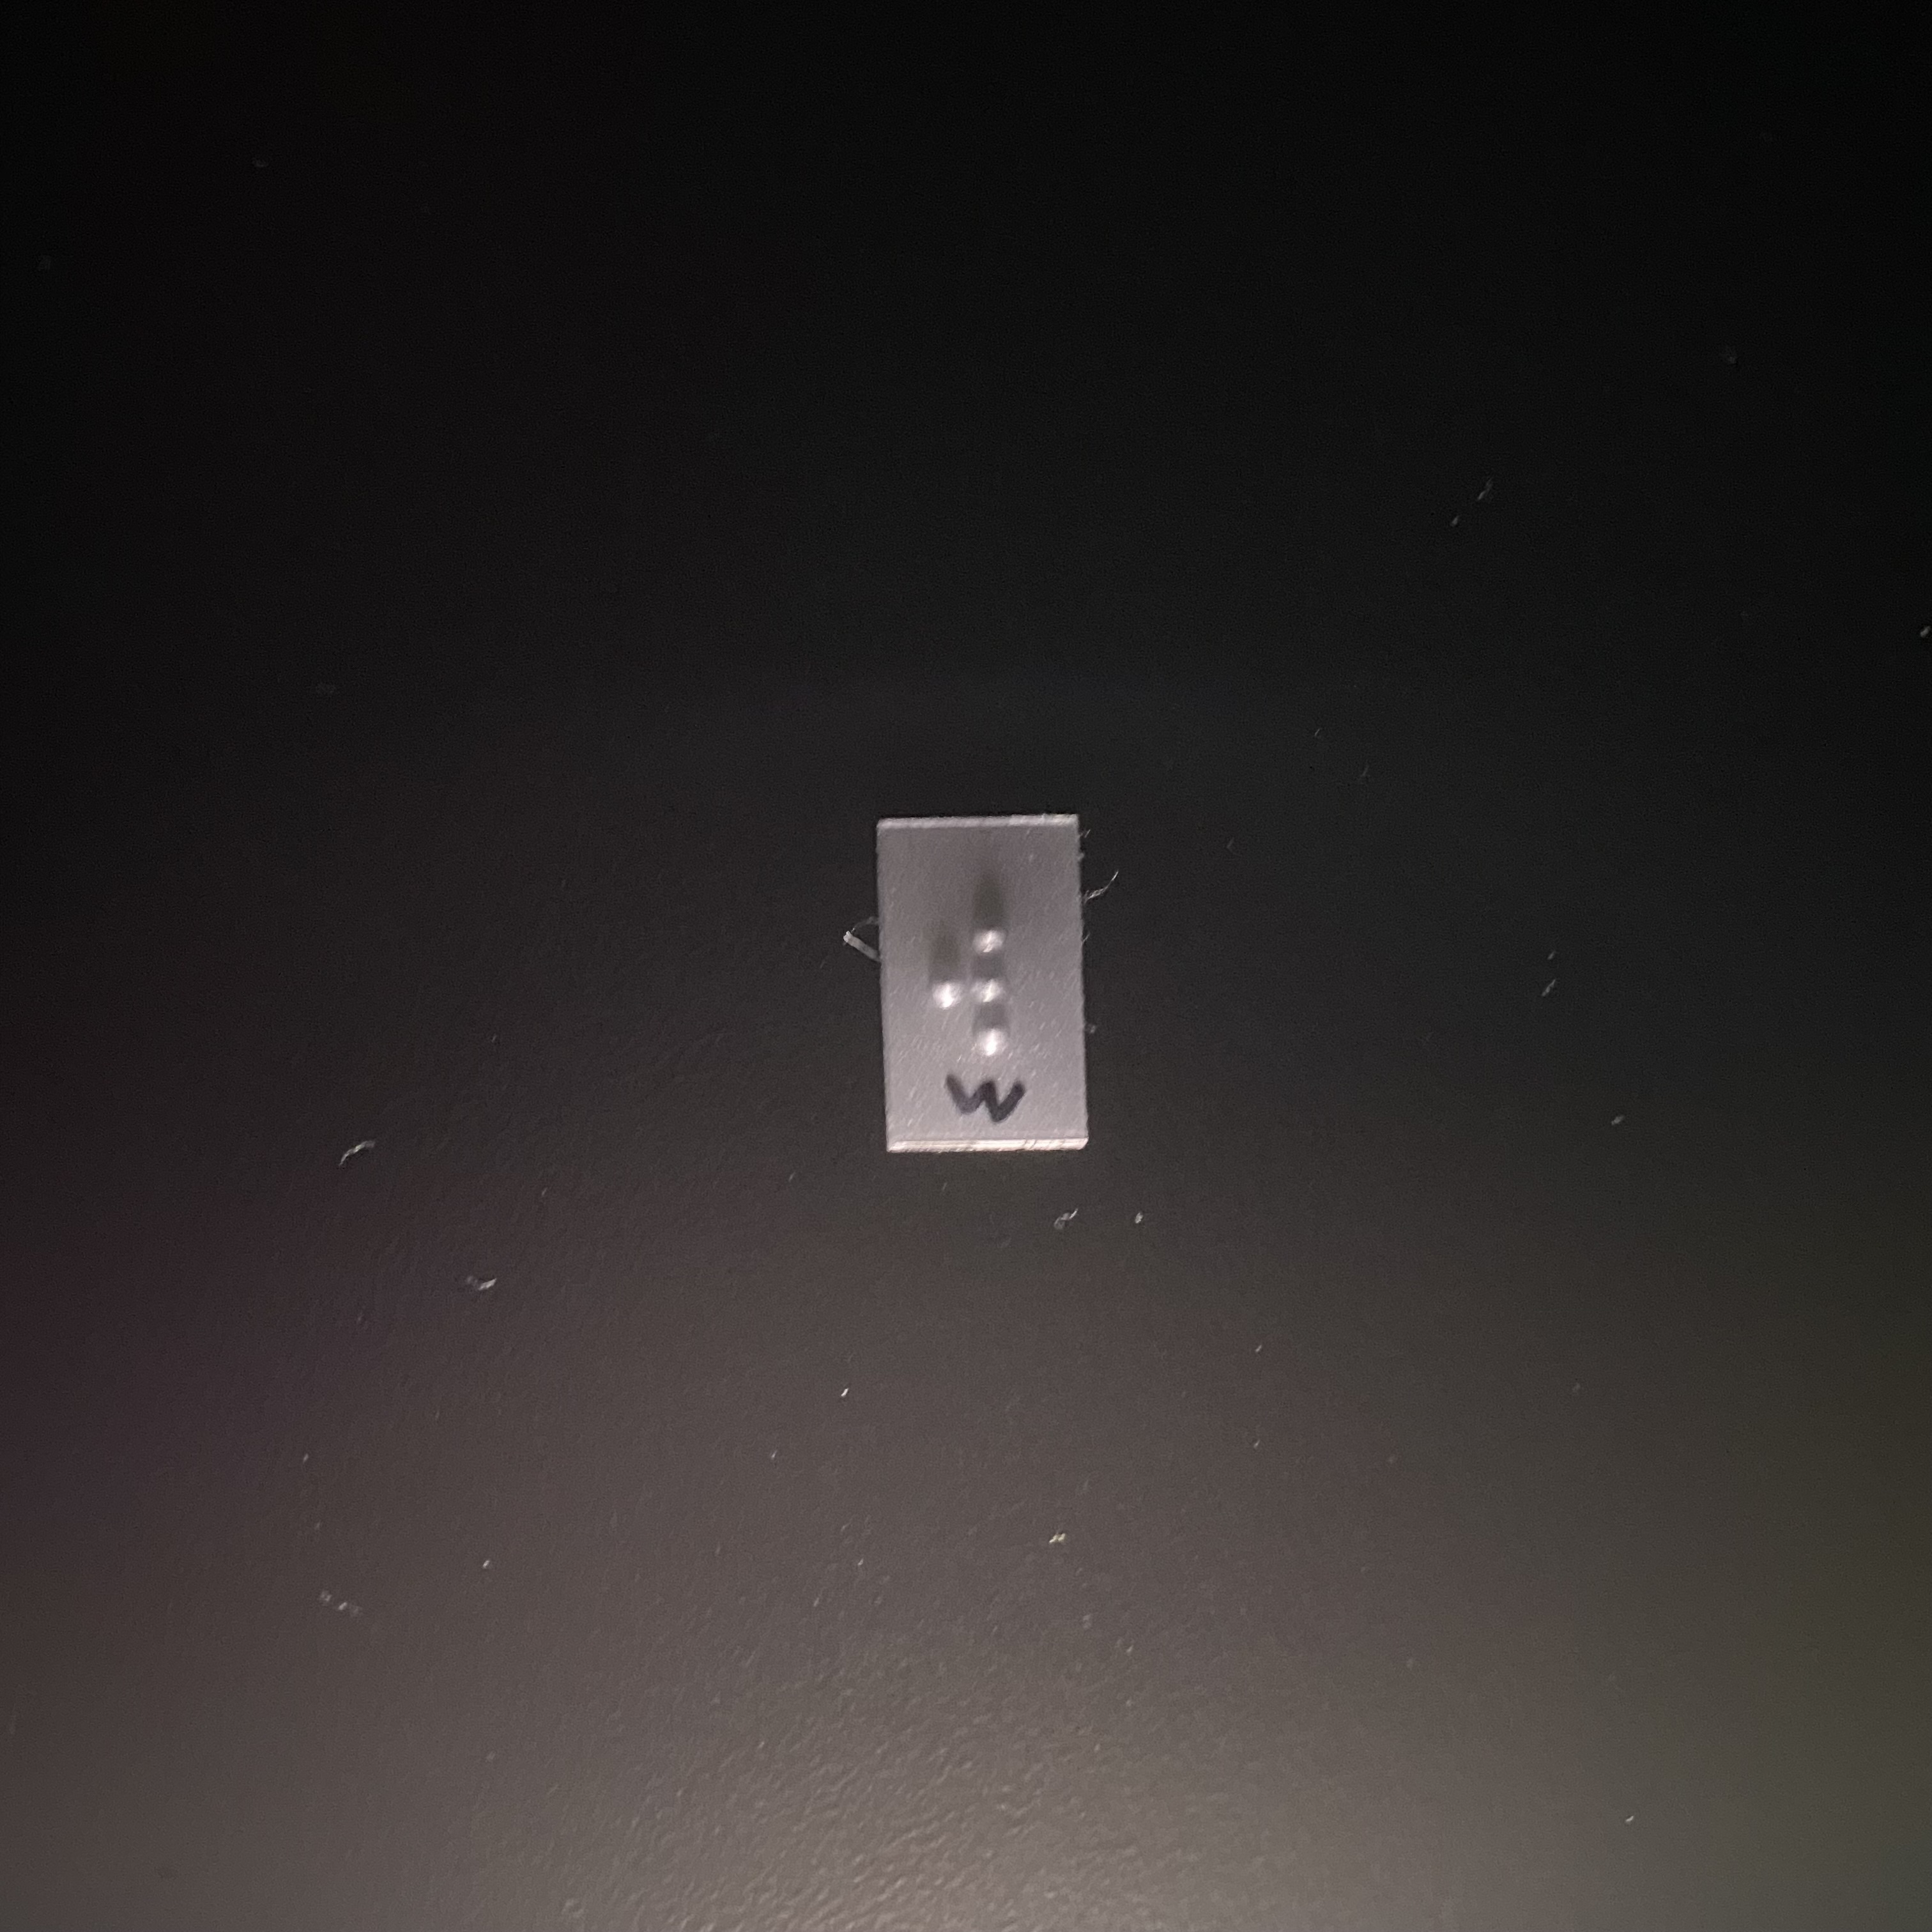w: (926, 887, 1036, 1064)
